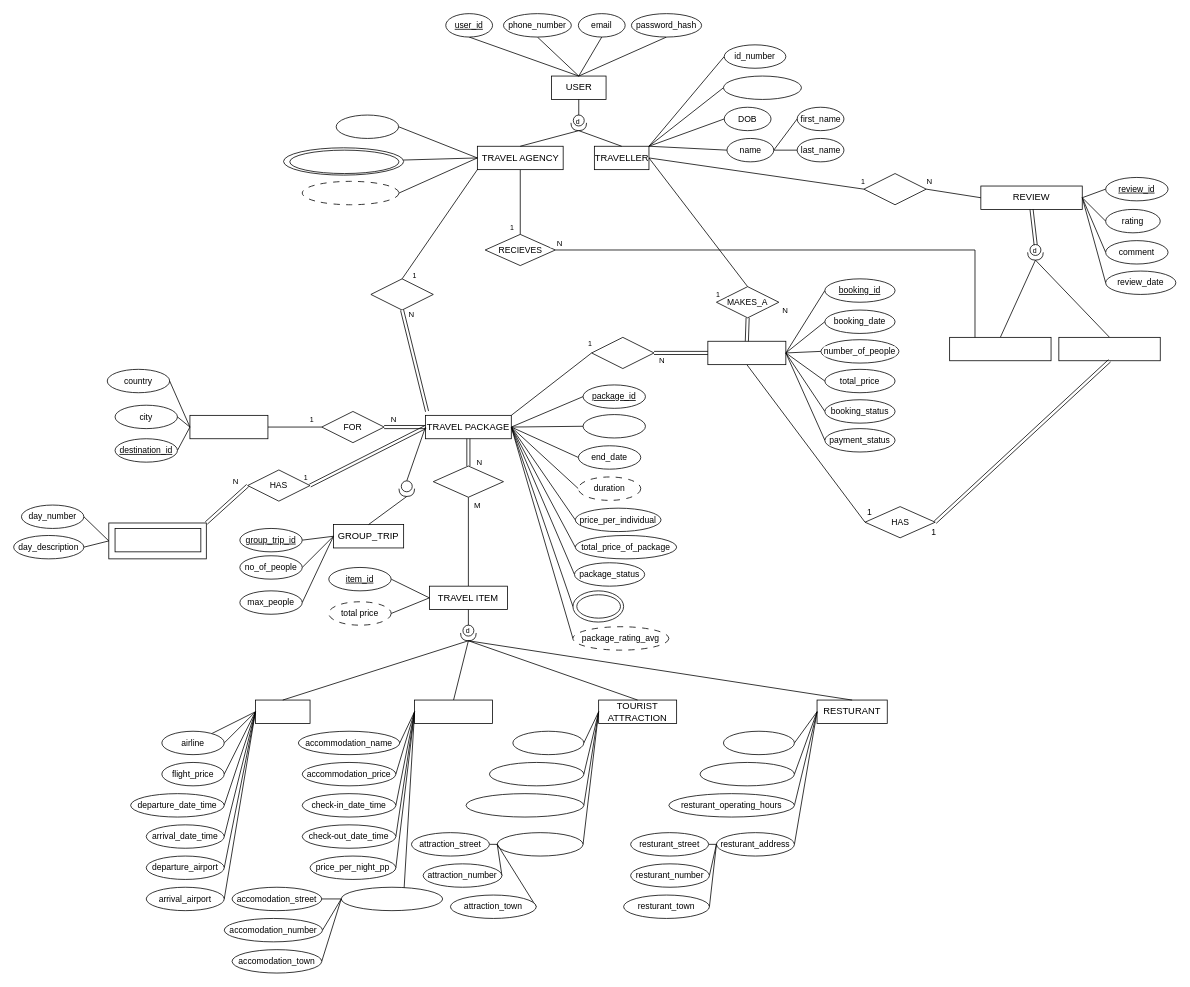
Image size: 1190x987. Some labels were removed from this diagram. The centre of each missing label's shape, as x and y in pixels:
"ACCOMODATION" goes at pixel 453 711.
"accomodation_address" goes at pixel 391 898.
"agency_name" goes at pixel 367 126.
"agency_phone_number" goes at pixel 344 161.
"agency_rating_avg" goes at pixel 350 193.
"AGENCY_REVIEW" goes at pixel 1000 349.
"attraction_address" goes at pixel 539 844.
"attraction_name" goes at pixel 548 742.
"attraction_operating_hours" goes at pixel 524 805.
"average_price_pp" goes at pixel 746 774.
"BOOKING" goes at pixel 746 352.
"CREATES" goes at pixel 401 294.
"DESTINATION" goes at pixel 228 427.
"entrance/activity_fee" goes at pixel 536 774.
"FLIGHT" goes at pixel 282 711.
"FOR_A" goes at pixel 622 353.
"images" goes at pixel 598 606.
"INCLUDES" goes at pixel 468 481.
"ITINERARY_DAY" goes at pixel 157 540.
"PACKAGE_REVIEW" goes at pixel 1109 349.
"residing_country" goes at pixel 762 87.
"resturant_name" goes at pixel 758 742.
"start_date" goes at pixel 613 426.
"WRITES" goes at pixel 894 189.
